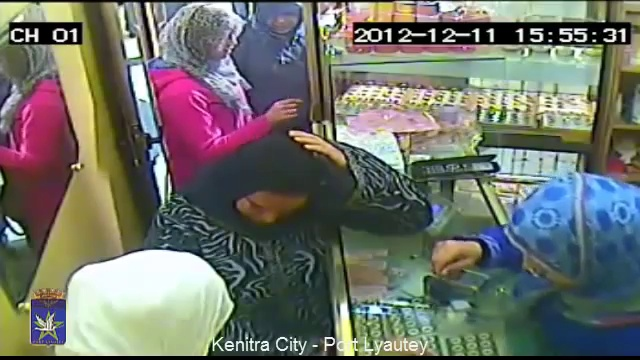face: (230, 187, 313, 224), (265, 6, 297, 33)
